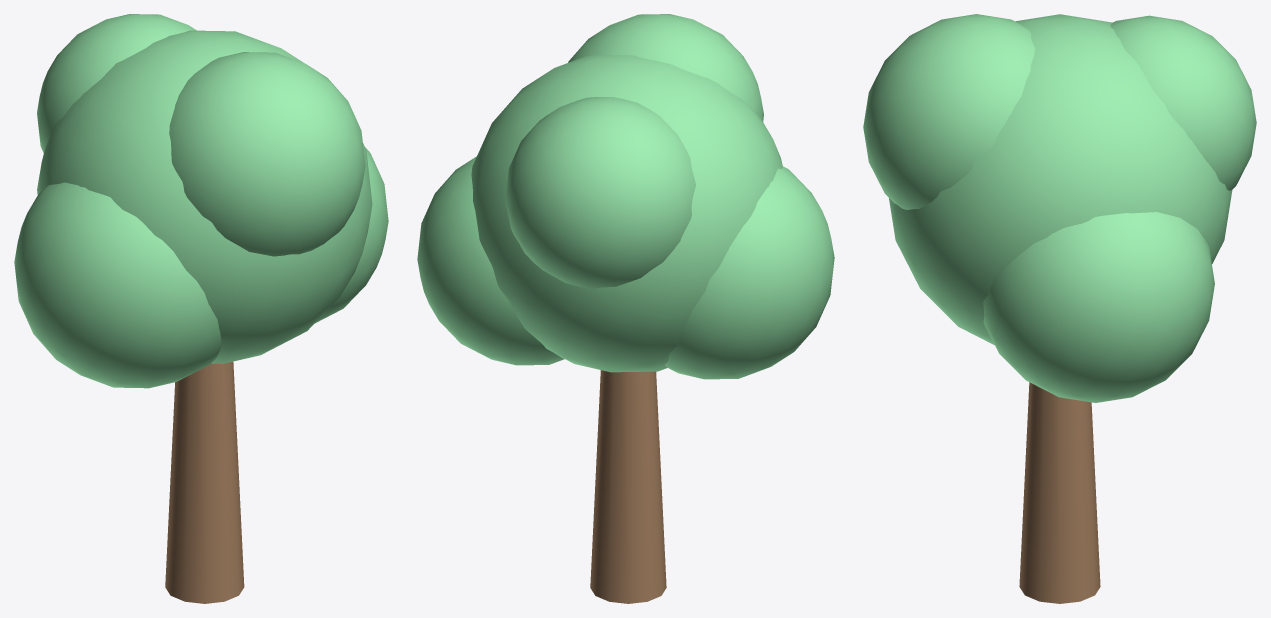
Rendered from tree.glb.
The picture shows the model from 3 angles, left to right: view 1: azimuth 30°, elevation 25°; view 2: azimuth 150°, elevation 25°; view 3: azimuth 270°, elevation 25°; orthographic projection. The views are drawn at different scales.
Parts seen in each view (by area): view 1: TreeLeaves0, TreeLeaves3, TreeLeaves2, TreeTrunk, TreeLeaves4, TreeLeaves1; view 2: TreeLeaves0, TreeLeaves4, TreeLeaves2, TreeTrunk, TreeLeaves1, TreeLeaves3; view 3: TreeLeaves0, TreeLeaves1, TreeLeaves3, TreeTrunk, TreeLeaves4.
Boxes of the visible parts, x1,y1,x2,y2 form: TreeLeaves0: [37, 30, 372, 363]; TreeLeaves3: [169, 52, 365, 256]; TreeLeaves2: [14, 182, 221, 388]; TreeTrunk: [165, 361, 244, 603]; TreeLeaves4: [37, 14, 196, 153]; TreeLeaves1: [315, 147, 388, 323]; TreeLeaves0: [471, 54, 782, 372]; TreeLeaves4: [505, 97, 695, 288]; TreeLeaves2: [665, 166, 834, 379]; TreeTrunk: [590, 370, 666, 603]; TreeLeaves1: [417, 156, 564, 365]; TreeLeaves3: [568, 14, 763, 121]; TreeLeaves0: [889, 14, 1232, 344]; TreeLeaves1: [983, 212, 1214, 402]; TreeLeaves3: [863, 14, 1035, 209]; TreeTrunk: [1019, 382, 1100, 603]; TreeLeaves4: [1110, 15, 1256, 190].
Size of the model in its own units: 3.7 by 5.25 by 3.3.
